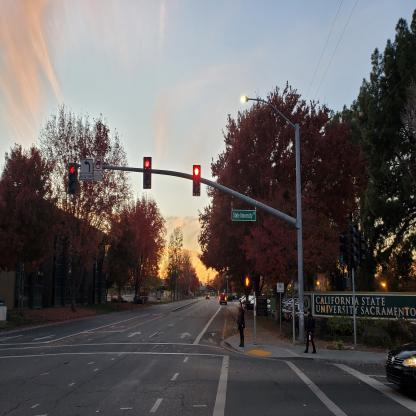left-red: (69, 163, 76, 194)
red: (143, 158, 151, 188), (193, 165, 200, 196)
